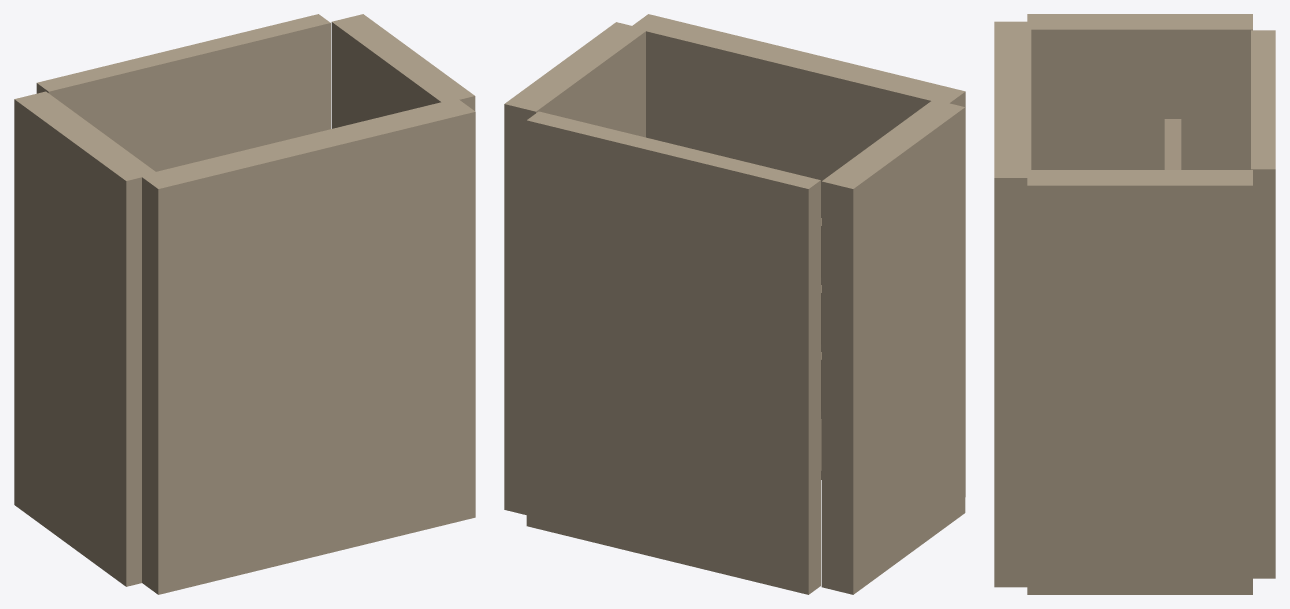
Rendered from rock-cut-tunnel.glb.
3 renders of one model, left to right at view 1: azimuth 30°, elevation 25°; view 2: azimuth 150°, elevation 25°; view 3: azimuth 270°, elevation 25°, orthographic.
Parts seen in each view (by area): view 1: world; view 2: world; view 3: world.
Part boxes in pixels (x1,y1,x2,y2): world: (14, 14, 475, 594); world: (504, 14, 965, 594); world: (994, 14, 1275, 594).
Size of the model in its own units: 1.98 by 2.2 by 1.37.
